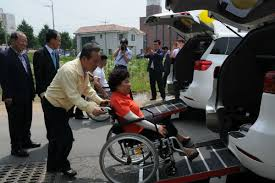wheelchair: (98, 68, 200, 183)
